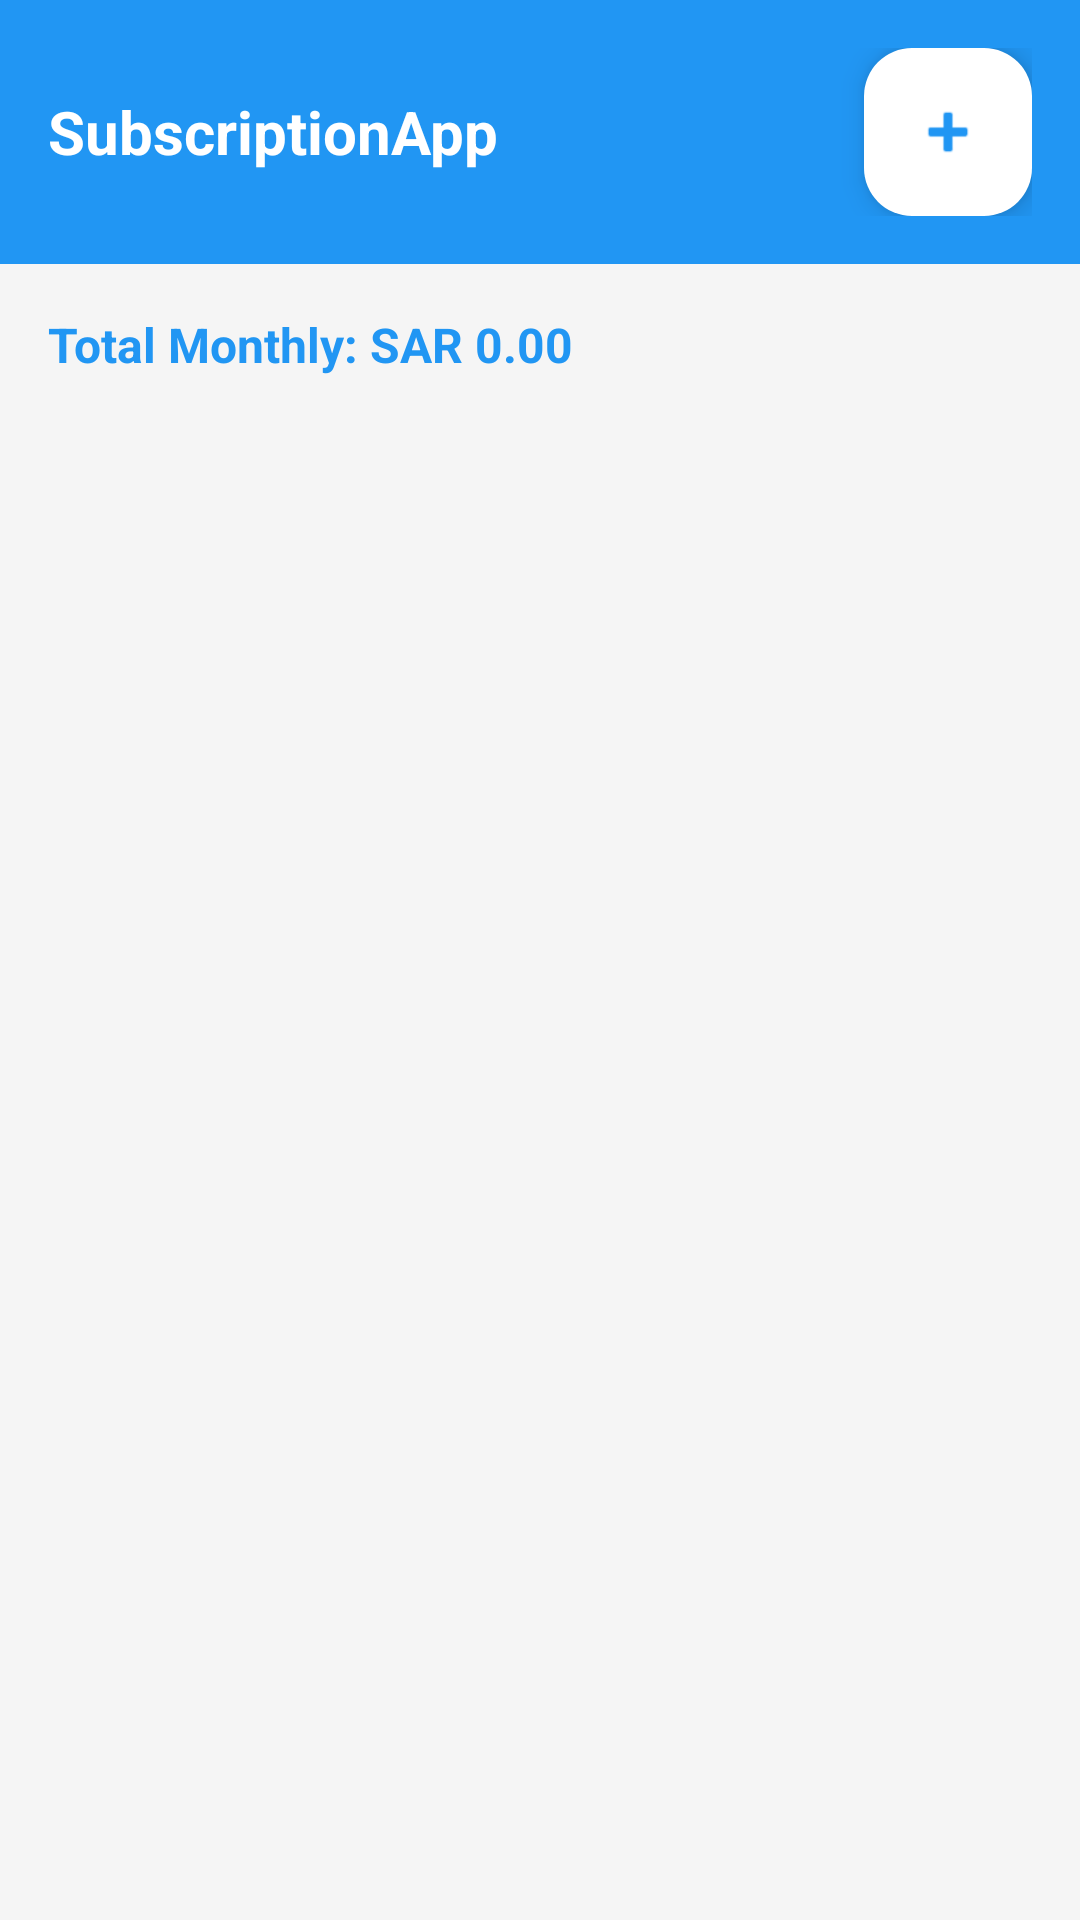

Locate icon controls on the screen. Image size 1080w x 1920h, boxes as [x1, y1, x2, y2].
add: [864, 48, 1032, 216]
